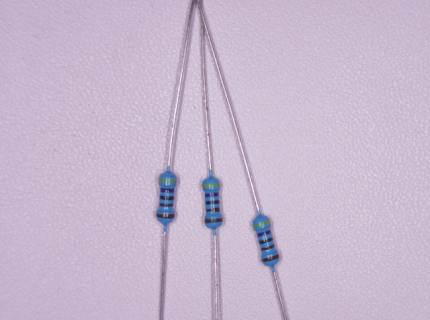Black band: (259, 236, 273, 244), (160, 195, 174, 200), (206, 200, 220, 205)
Brown band: (262, 253, 279, 262), (157, 213, 175, 219), (261, 244, 275, 251), (205, 218, 222, 223), (206, 207, 219, 212), (159, 203, 173, 207)
Violet band: (257, 229, 271, 237), (160, 188, 174, 193), (205, 192, 219, 197)
Yellow band: (254, 220, 270, 228), (159, 178, 177, 183), (203, 184, 220, 188)
